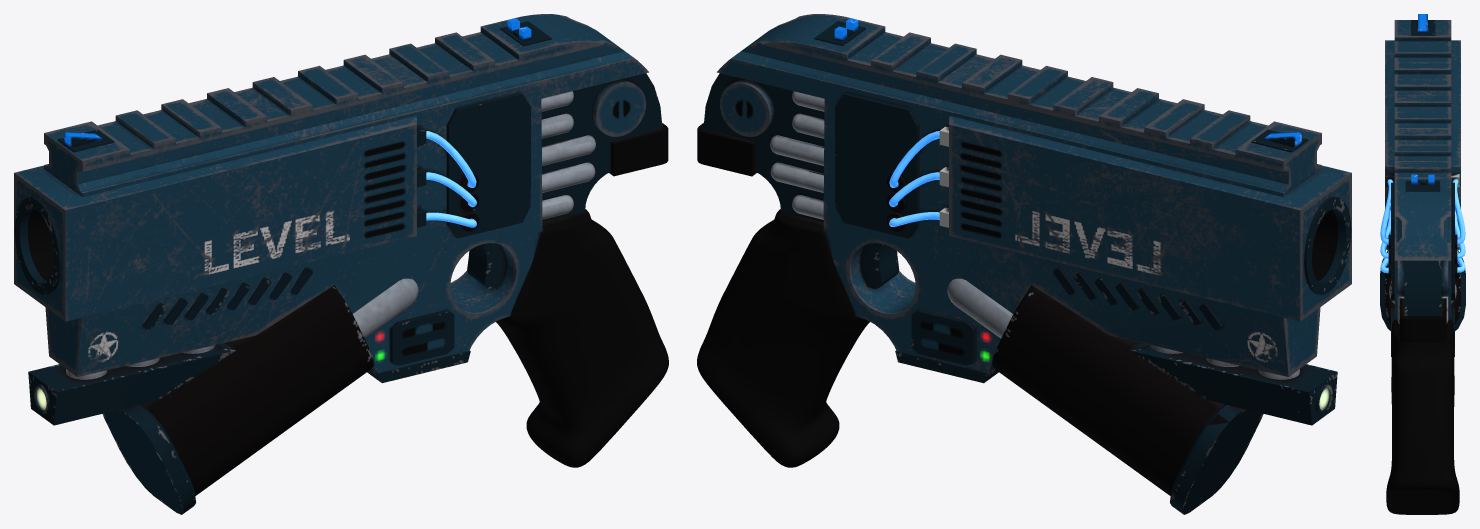
Rendered from cyberpunk_style_gun_pistol.gltf.
The picture shows the model from 3 angles, left to right: view 1: azimuth 30°, elevation 25°; view 2: azimuth 150°, elevation 25°; view 3: azimuth 270°, elevation 25°; orthographic projection. The views are drawn at different scales.
Parts seen in each view (by area): view 1: main.001, handle.001, mag.001, 10.001_TT_checker_512x512_UV_GRID_0, 7.001_TT_checker_512x512_UV_GRID_0, 15.001_TT_checker_512x512_UV_GRID_0, 8.001_TT_checker_512x512_UV_GRID_0, 11.001_TT_checker_512x512_UV_GRID_0, 12.001_TT_checker_512x512_UV_GRID_0, 16.001_TT_checker_512x512_UV_GRID_0, 6.001_TT_checker_512x512_UV_GRID_0, 3.001_TT_checker_512x512_UV_GRID_0 (+4 smaller); view 2: main.001, handle.001, mag.001, 10.001_TT_checker_512x512_UV_GRID_0, 7.001_TT_checker_512x512_UV_GRID_0, 15.001_TT_checker_512x512_UV_GRID_0, 8.001_TT_checker_512x512_UV_GRID_0, 11.001_TT_checker_512x512_UV_GRID_0, 12.001_TT_checker_512x512_UV_GRID_0, 16.001_TT_checker_512x512_UV_GRID_0, 6.001_TT_checker_512x512_UV_GRID_0, 3.001_TT_checker_512x512_UV_GRID_0 (+4 smaller); view 3: main.001, handle.001, 8.001_TT_checker_512x512_UV_GRID_0, 3.001_TT_checker_512x512_UV_GRID_0, wires.001, mag.001, 10.001_TT_checker_512x512_UV_GRID_0, 12.001_TT_checker_512x512_UV_GRID_0, 18.001_TT_checker_512x512_UV_GRID_0, 13.001_TT_checker_512x512_UV_GRID_0, 15.001_TT_checker_512x512_UV_GRID_0, 5.001_TT_checker_512x512_UV_GRID_0 (+3 smaller).
Part boxes in pixels (x1,y1,x2,y2): main.001: (14, 14, 648, 376); handle.001: (496, 209, 668, 467); mag.001: (102, 286, 373, 514); 10.001_TT_checker_512x512_UV_GRID_0: (446, 93, 530, 238); 7.001_TT_checker_512x512_UV_GRID_0: (28, 343, 235, 425); 15.001_TT_checker_512x512_UV_GRID_0: (352, 91, 595, 338); 8.001_TT_checker_512x512_UV_GRID_0: (541, 73, 662, 222); 11.001_TT_checker_512x512_UV_GRID_0: (390, 310, 454, 365); 12.001_TT_checker_512x512_UV_GRID_0: (591, 80, 646, 136); 16.001_TT_checker_512x512_UV_GRID_0: (143, 267, 312, 330); 6.001_TT_checker_512x512_UV_GRID_0: (14, 196, 61, 294); 3.001_TT_checker_512x512_UV_GRID_0: (609, 123, 668, 176); main.001: (717, 14, 1351, 376); handle.001: (697, 209, 869, 467); mag.001: (992, 286, 1263, 514); 10.001_TT_checker_512x512_UV_GRID_0: (835, 93, 919, 238); 7.001_TT_checker_512x512_UV_GRID_0: (1130, 343, 1337, 425); 15.001_TT_checker_512x512_UV_GRID_0: (770, 91, 1013, 338); 8.001_TT_checker_512x512_UV_GRID_0: (703, 73, 824, 222); 11.001_TT_checker_512x512_UV_GRID_0: (911, 310, 975, 365); 12.001_TT_checker_512x512_UV_GRID_0: (719, 80, 774, 136); 16.001_TT_checker_512x512_UV_GRID_0: (1053, 267, 1222, 330); 6.001_TT_checker_512x512_UV_GRID_0: (1304, 196, 1351, 294); 3.001_TT_checker_512x512_UV_GRID_0: (697, 123, 756, 176); main.001: (1385, 20, 1460, 319); handle.001: (1386, 319, 1459, 514); 8.001_TT_checker_512x512_UV_GRID_0: (1404, 260, 1441, 315); 3.001_TT_checker_512x512_UV_GRID_0: (1399, 298, 1446, 342); wires.001: (1380, 179, 1465, 273); mag.001: (1380, 250, 1465, 330); 10.001_TT_checker_512x512_UV_GRID_0: (1391, 182, 1454, 300); 12.001_TT_checker_512x512_UV_GRID_0: (1397, 260, 1448, 296); 18.001_TT_checker_512x512_UV_GRID_0: (1405, 20, 1439, 191); 13.001_TT_checker_512x512_UV_GRID_0: (1388, 234, 1457, 277); 15.001_TT_checker_512x512_UV_GRID_0: (1389, 284, 1456, 323); 5.001_TT_checker_512x512_UV_GRID_0: (1411, 174, 1434, 184).
Bounding box in the file's own units: 372 × 253 × 60.62.
Materials: 1 (1 with a texture image).
